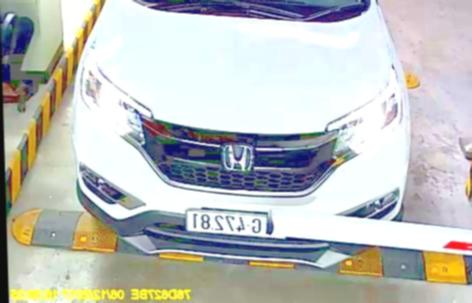License_Plate: (182, 213, 267, 237)
